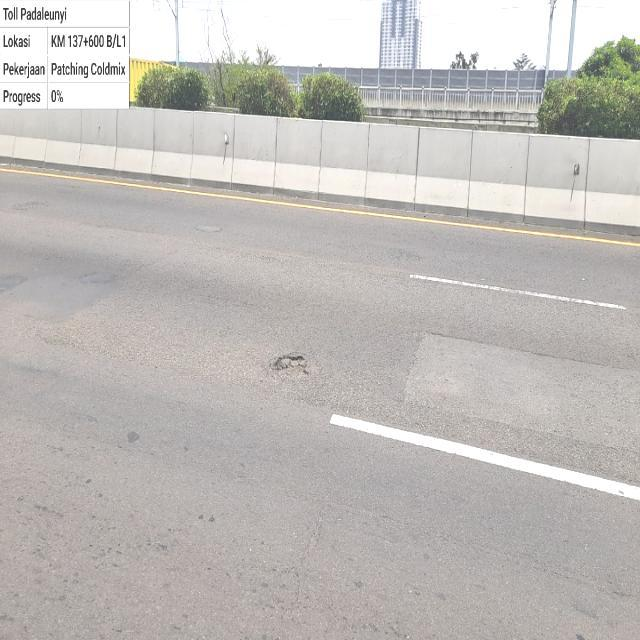Buraco: (270, 354, 312, 380)
